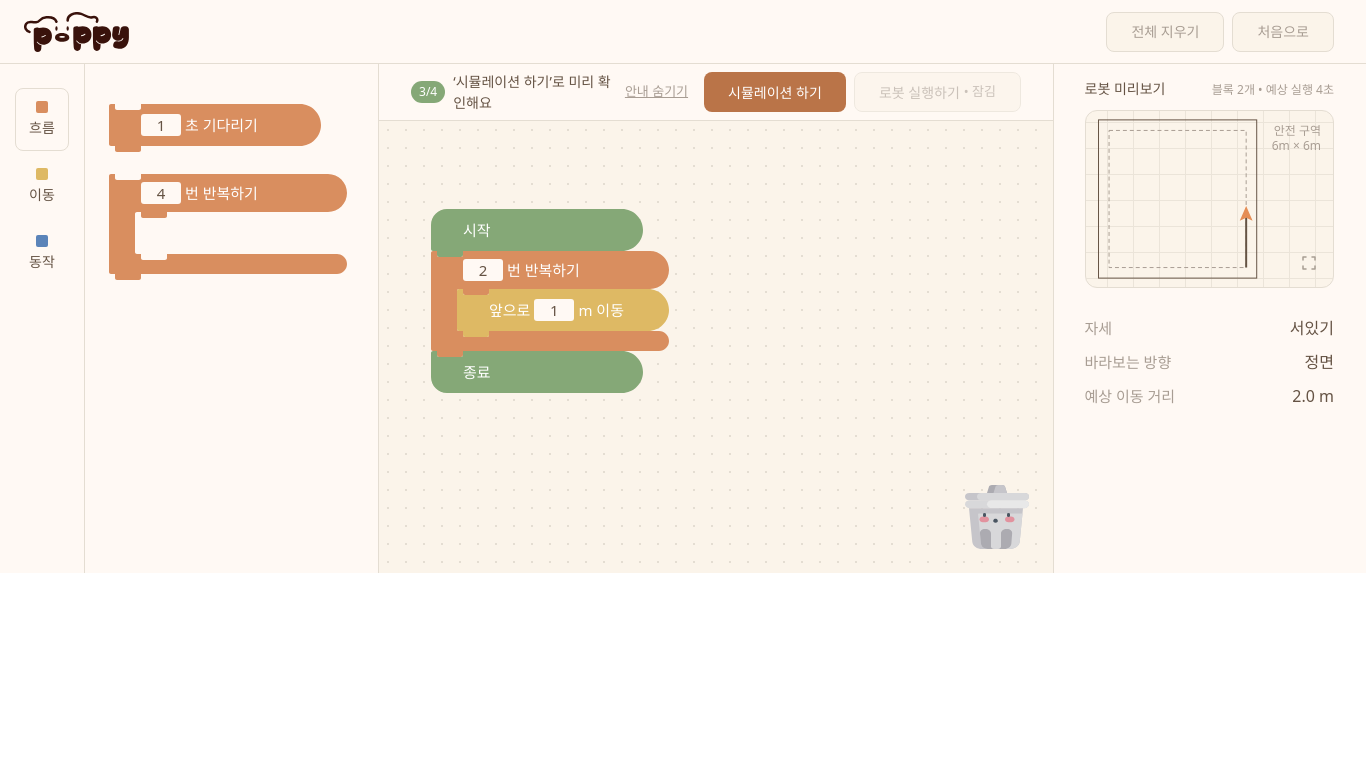
Scenario: ExperienceView › 이동 거리를 늘려 안전 구역을 벗어나면 위반 안내가 뜨고 통과하지 못한다
The width and height of the screenshot is (1366, 759).
Replace the text in the number field named "반복 횟수" with "3" at [483, 270], box left=463, top=259, right=503, bottom=281
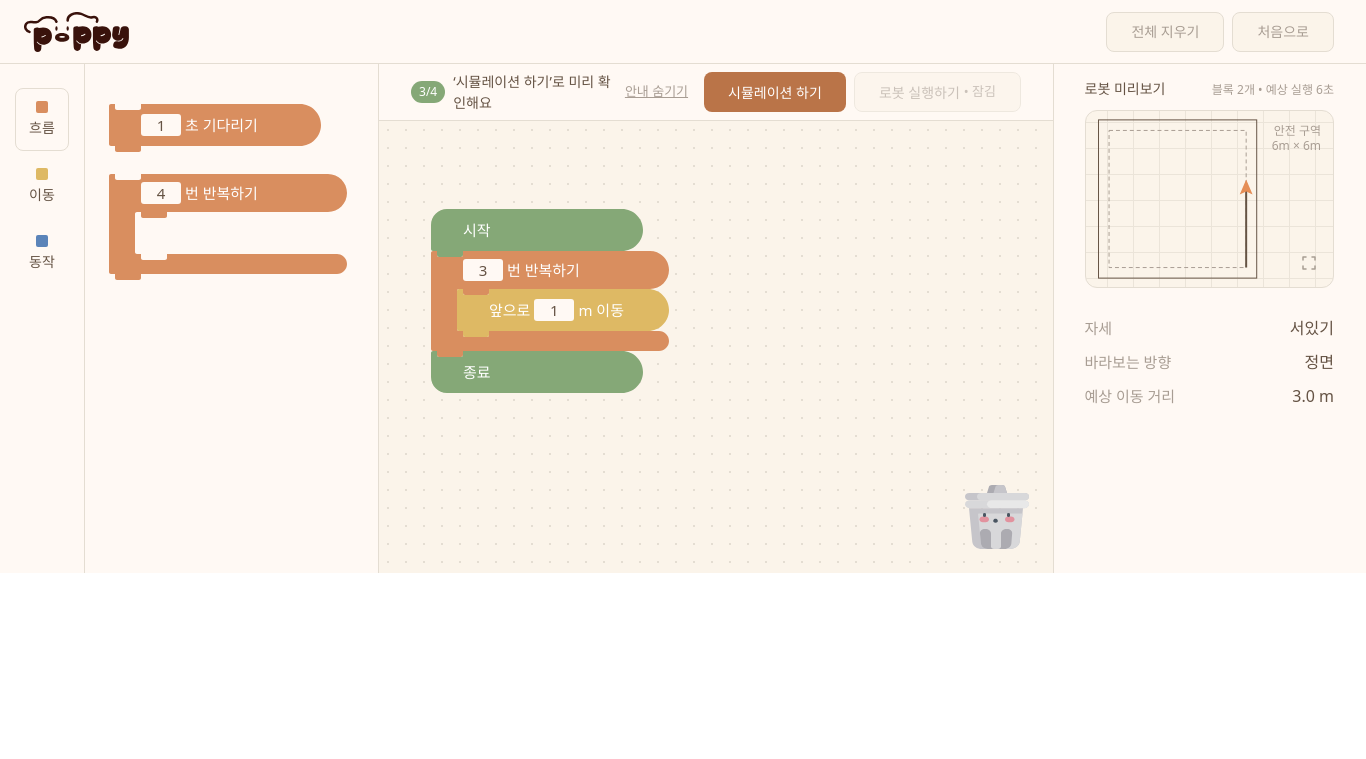
Replace the text in the number field named "반복 횟수" with "6" at [483, 270], box left=463, top=259, right=503, bottom=281
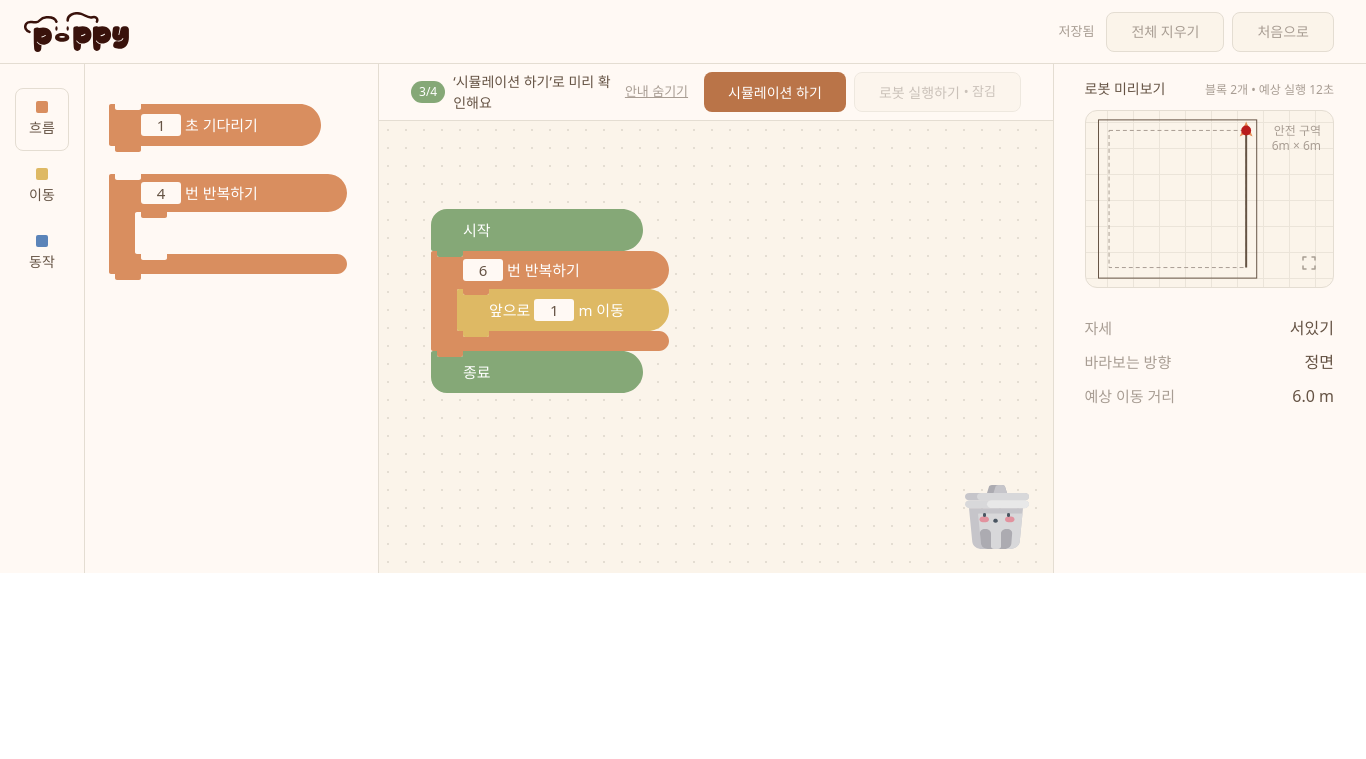
Click the button "시뮬레이션 하기".
click(775, 92)  # box left=704, top=72, right=846, bottom=112
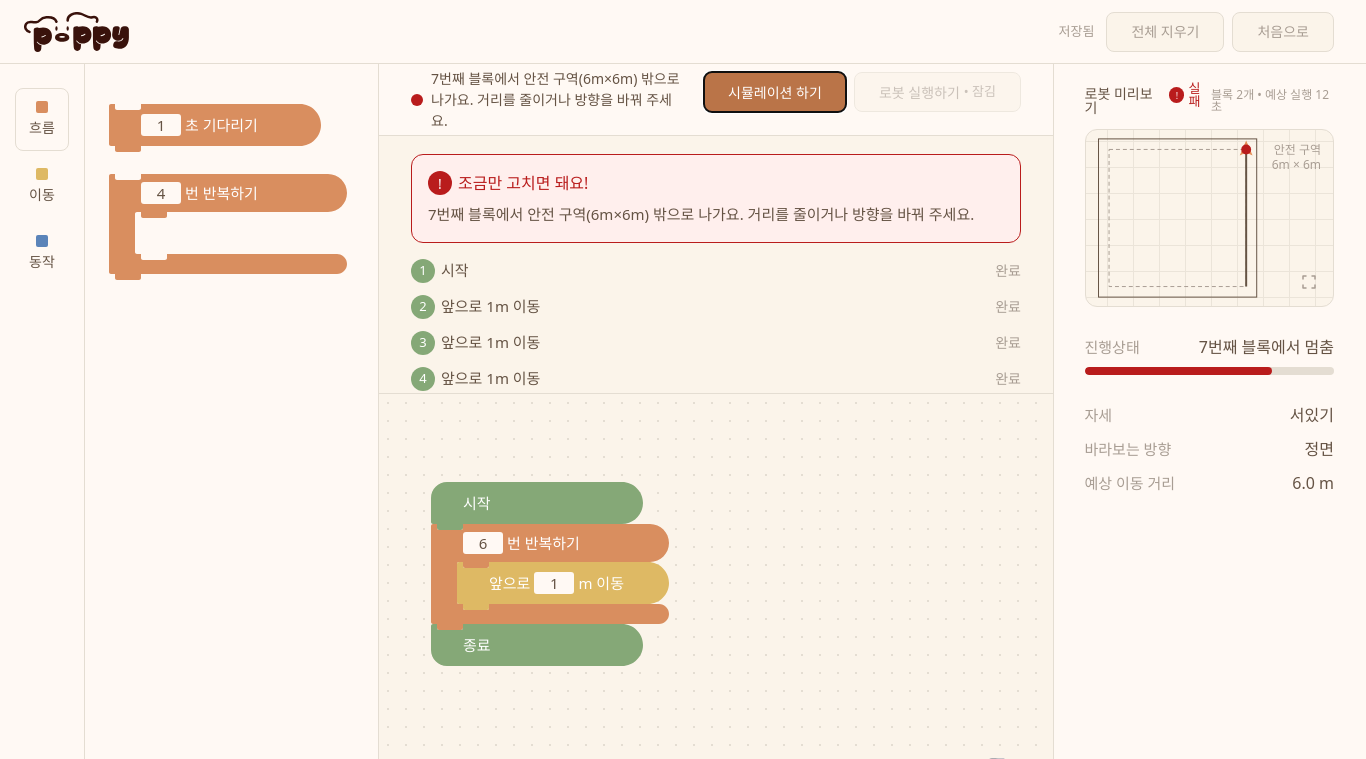
Expected: the button "로봇 실행하기 • 잠김" is shown, left=854, top=72, right=1021, bottom=112
Now the text "6.0 m" is shown, box left=1292, top=474, right=1334, bottom=490
Now the text "조금만 고치면 돼요!" is shown, box left=458, top=171, right=588, bottom=195
